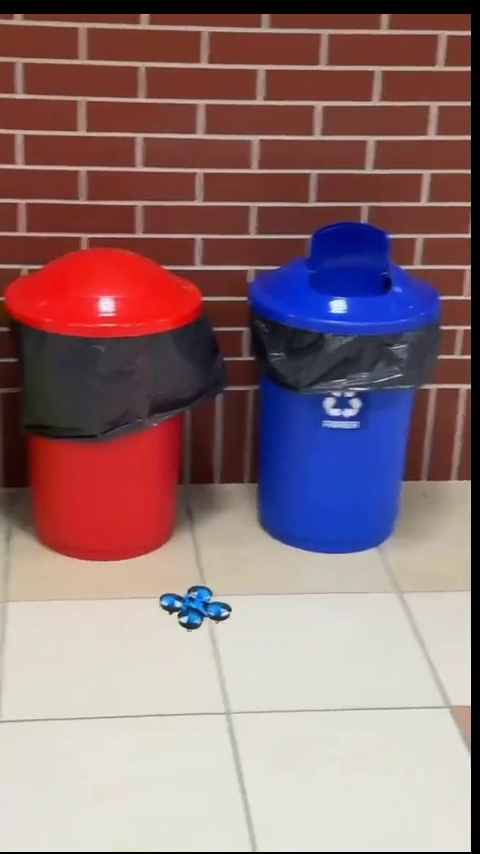drone: (163, 583, 227, 633)
